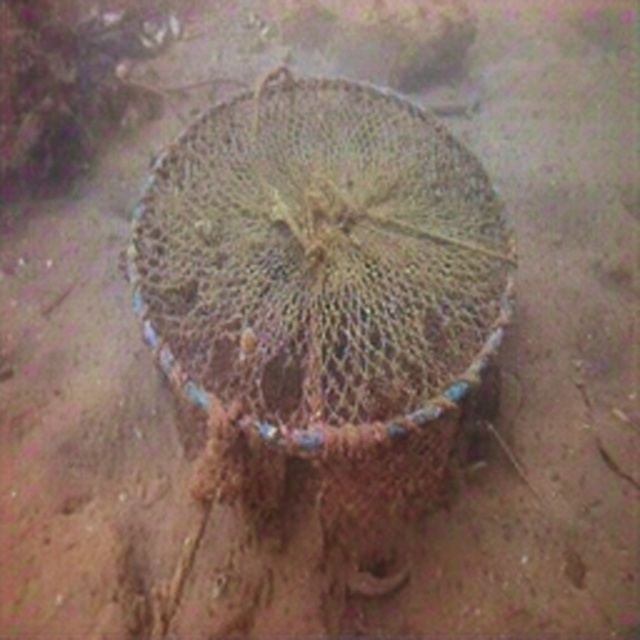mine: (123, 74, 519, 555)
